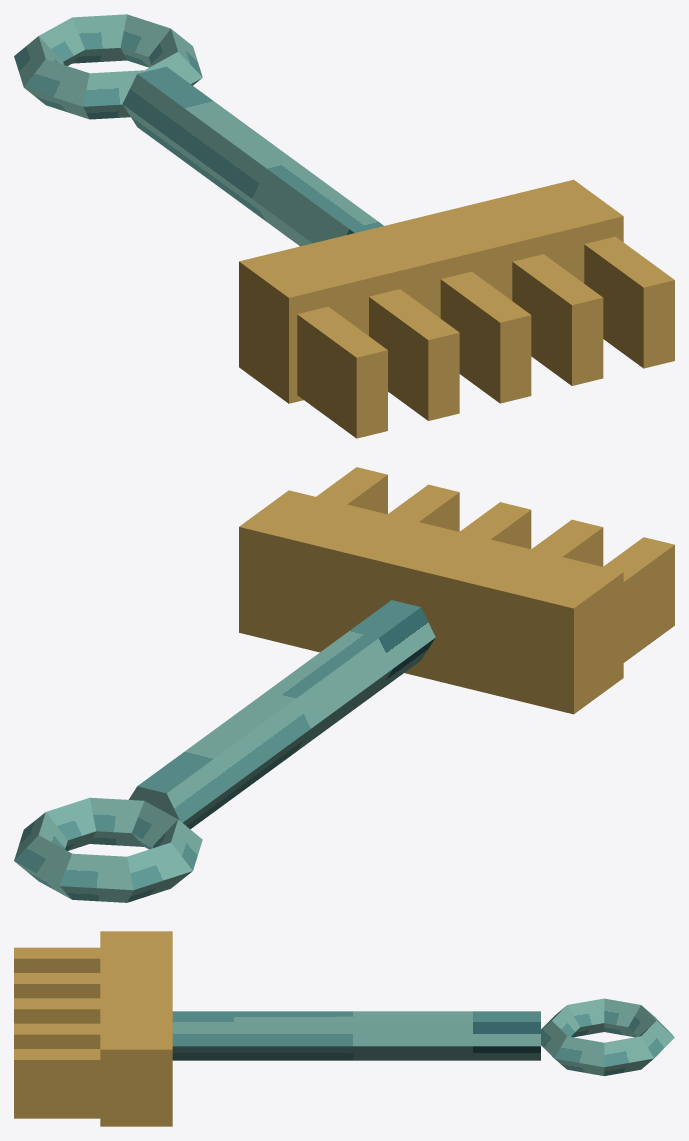
Rendered from rake.glb.
3 views of the same model, one above another, from view 1: azimuth 30°, elevation 25°; view 2: azimuth 150°, elevation 25°; view 3: azimuth 270°, elevation 25° (orthographic). The views are drawn at different scales.
Visible parts, largest first — view 1: rake; view 2: rake; view 3: rake.
Part boxes in pixels (x1,y1,x2,y2): rake: (14,14,674,438); rake: (14,467,674,902); rake: (14,931,674,1126).
Size of the model in its own units: 0.182 by 0.055 by 0.4295.
Materials: 1 (1 with a texture image).
